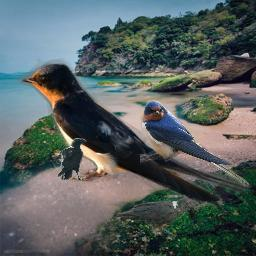Crow: (115, 197, 200, 236), (57, 138, 87, 180)
Swallow: (15, 56, 252, 208), (140, 100, 249, 187)
